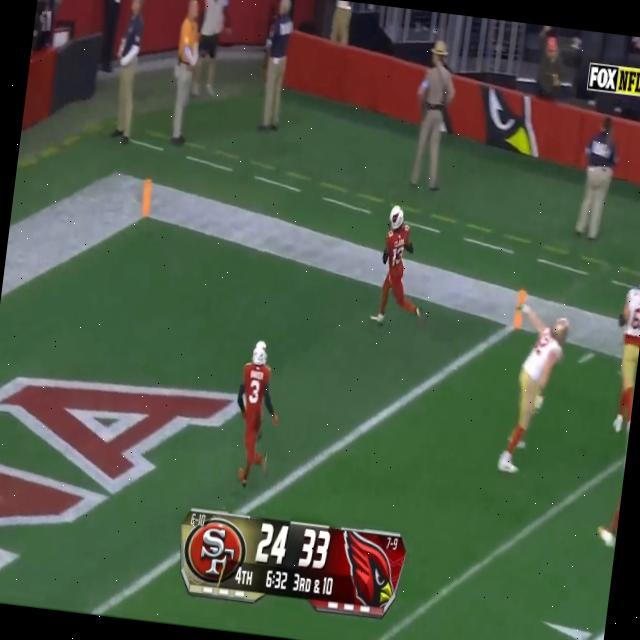Player: (499, 308, 570, 482), (226, 333, 282, 490), (603, 259, 640, 438), (372, 200, 418, 326)
